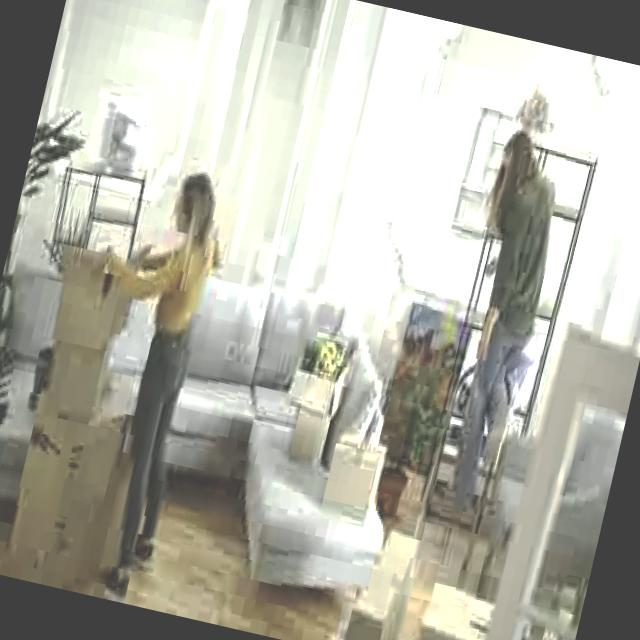Box: (0, 409, 123, 576), (350, 528, 424, 640), (48, 262, 128, 354), (278, 368, 344, 462), (316, 435, 386, 523), (38, 344, 116, 421), (417, 574, 496, 640)
